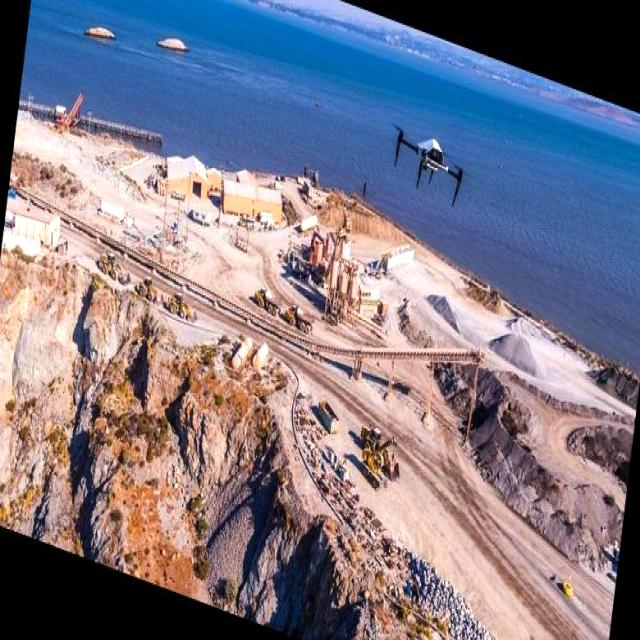drone: (387, 113, 470, 208)
